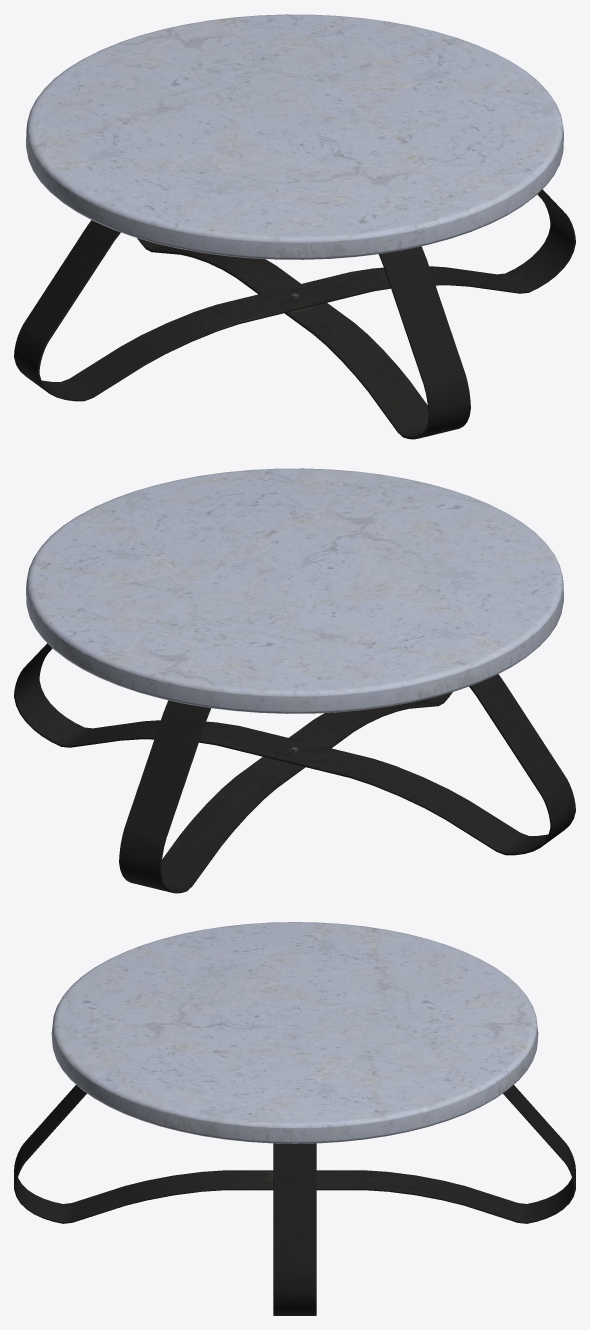
File: fu_coffee_round.fbx
The picture shows the model from 3 angles, top to bottom: view 1: azimuth 30°, elevation 25°; view 2: azimuth 150°, elevation 25°; view 3: azimuth 270°, elevation 25°; orthographic projection. The views are drawn at different scales.
Parts seen in each view (by area): view 1: fu_coffee_round_LOD0; view 2: fu_coffee_round_LOD0; view 3: fu_coffee_round_LOD0.
Part boxes in pixels (x1,y1,x2,y2): fu_coffee_round_LOD0: [14, 14, 575, 439]; fu_coffee_round_LOD0: [14, 468, 575, 893]; fu_coffee_round_LOD0: [14, 922, 575, 1315].
Size of what is drawn, in the model's own units: 1.3 by 0.4909 by 1.3.
